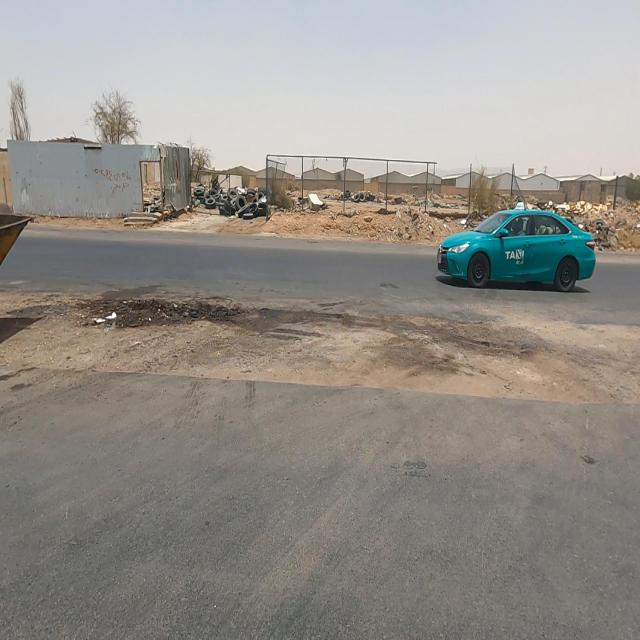Graffiti: (94, 168, 132, 194)
